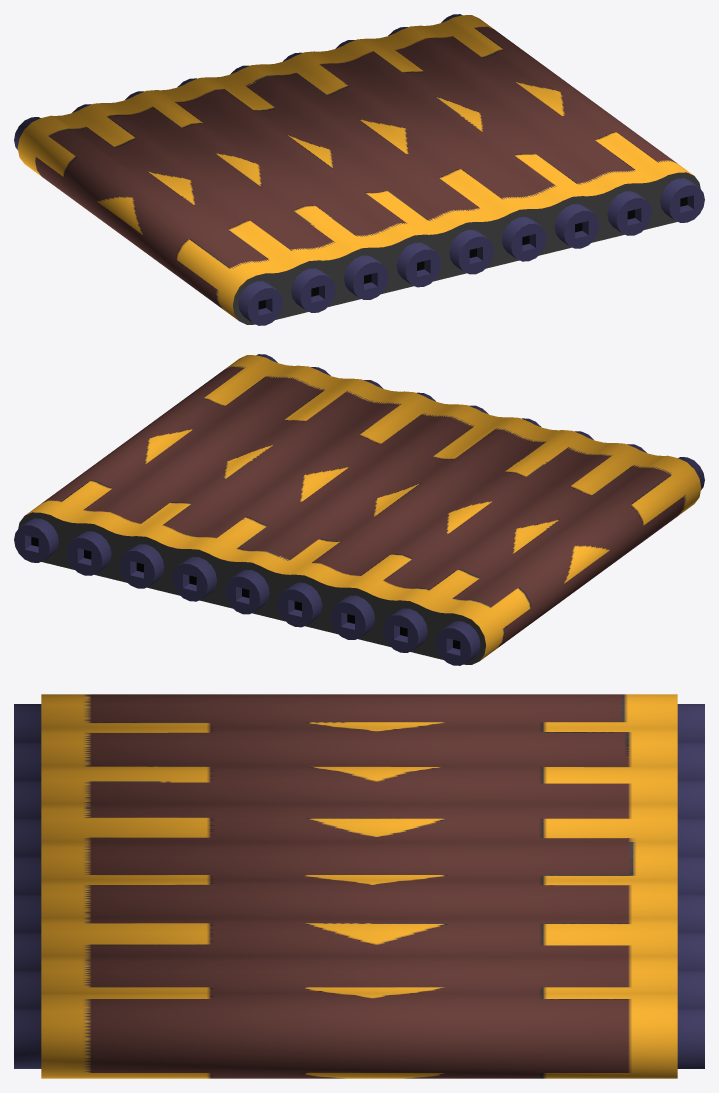
Rendered from cinta_txt.fbx.
3 views of the same model, one above another, from view 1: azimuth 30°, elevation 25°; view 2: azimuth 150°, elevation 25°; view 3: azimuth 270°, elevation 25° (orthographic). The views are drawn at different scales.
Visible parts, largest first — view 1: Cube.001; view 2: Cube.001; view 3: Cube.001.
Part boxes in pixels (x1=…): Cube.001: x1=14, y1=14, x2=704, y2=325; Cube.001: x1=14, y1=354, x2=704, y2=665; Cube.001: x1=14, y1=694, x2=704, y2=1078.
Bounding box in the file's own units: 163 × 19.53 × 189.
